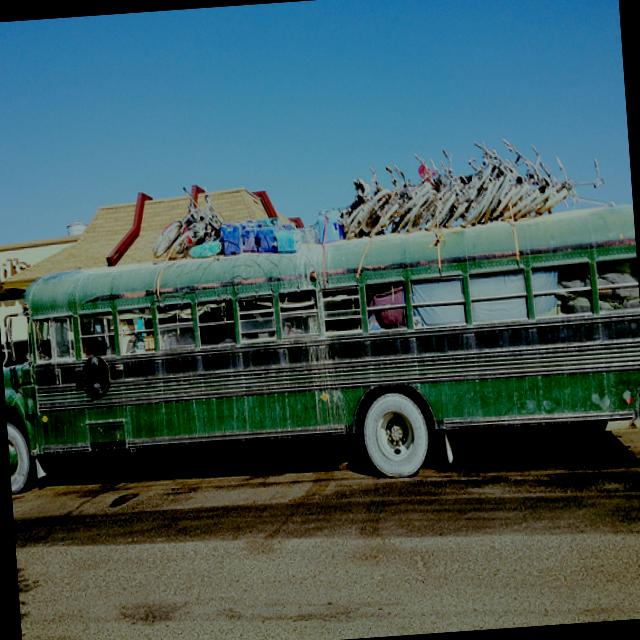Vehicle: (0, 218, 640, 499)
